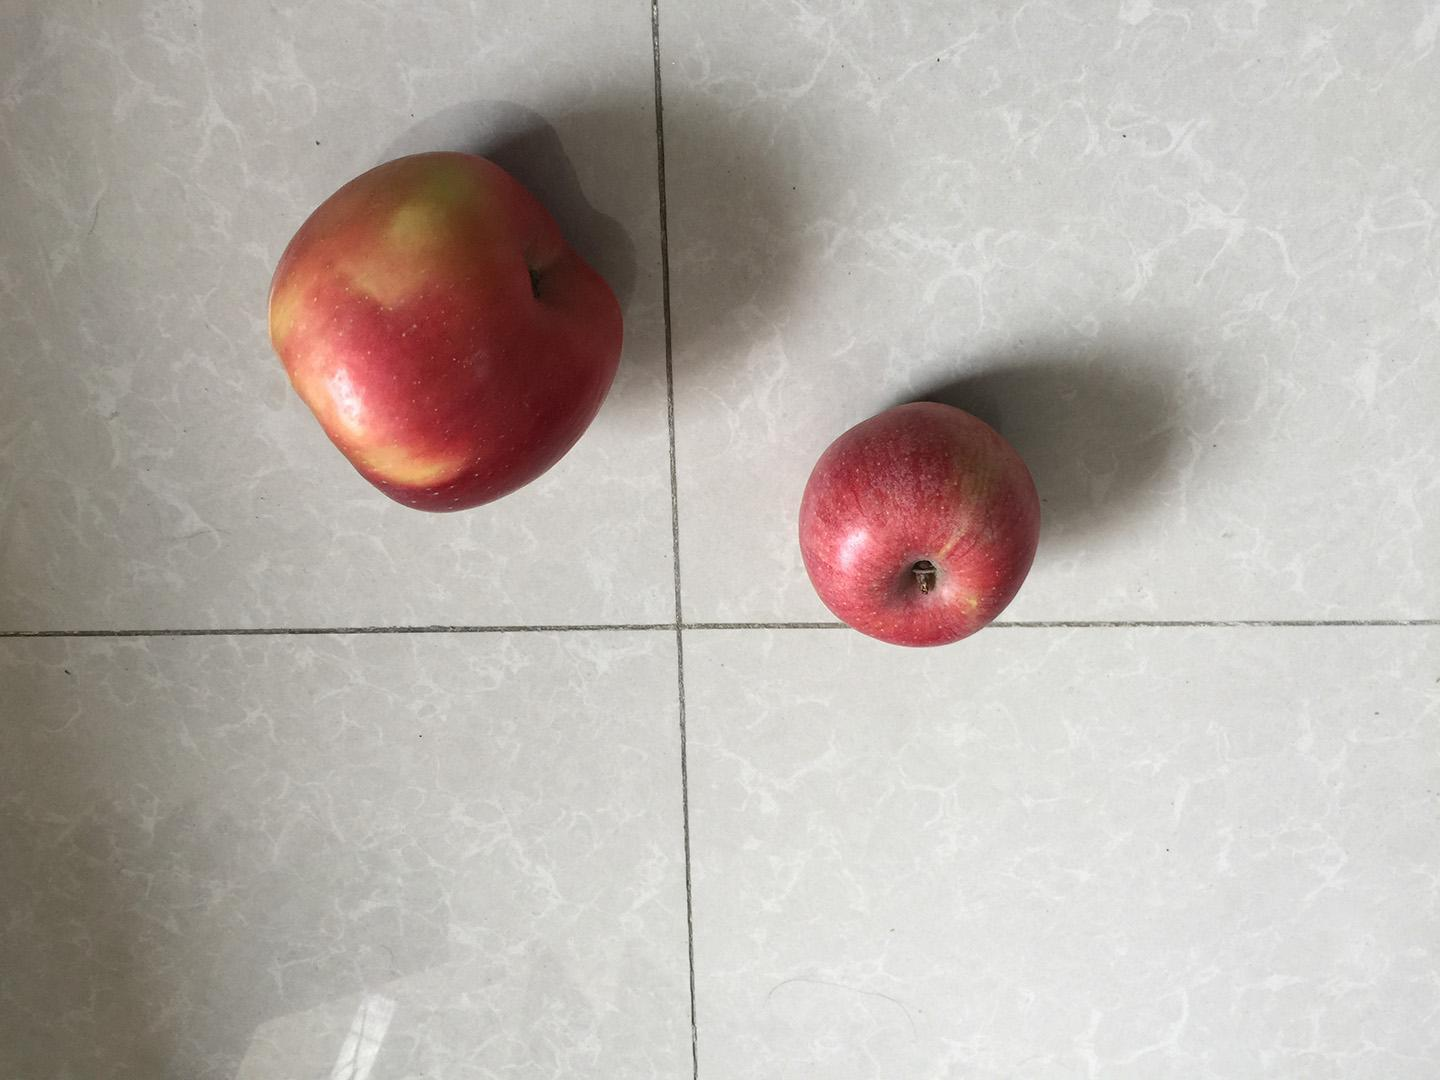apple: (259, 144, 628, 521), (791, 393, 1045, 653)
